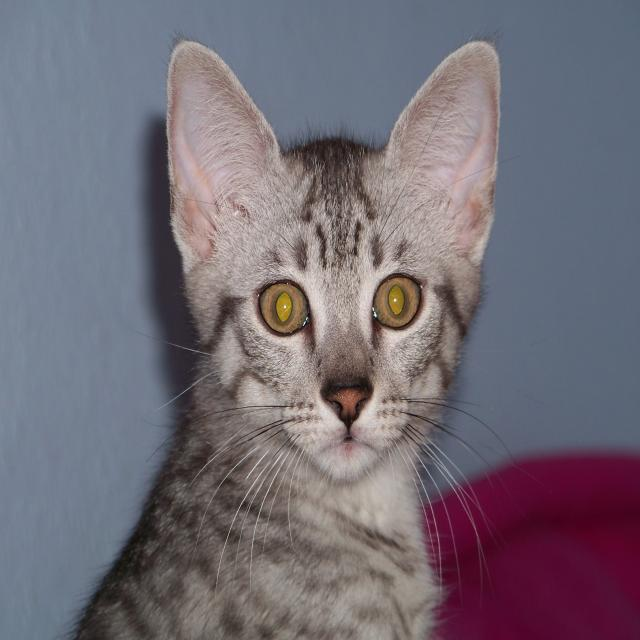Egyptian Mau: (51, 31, 505, 640)
